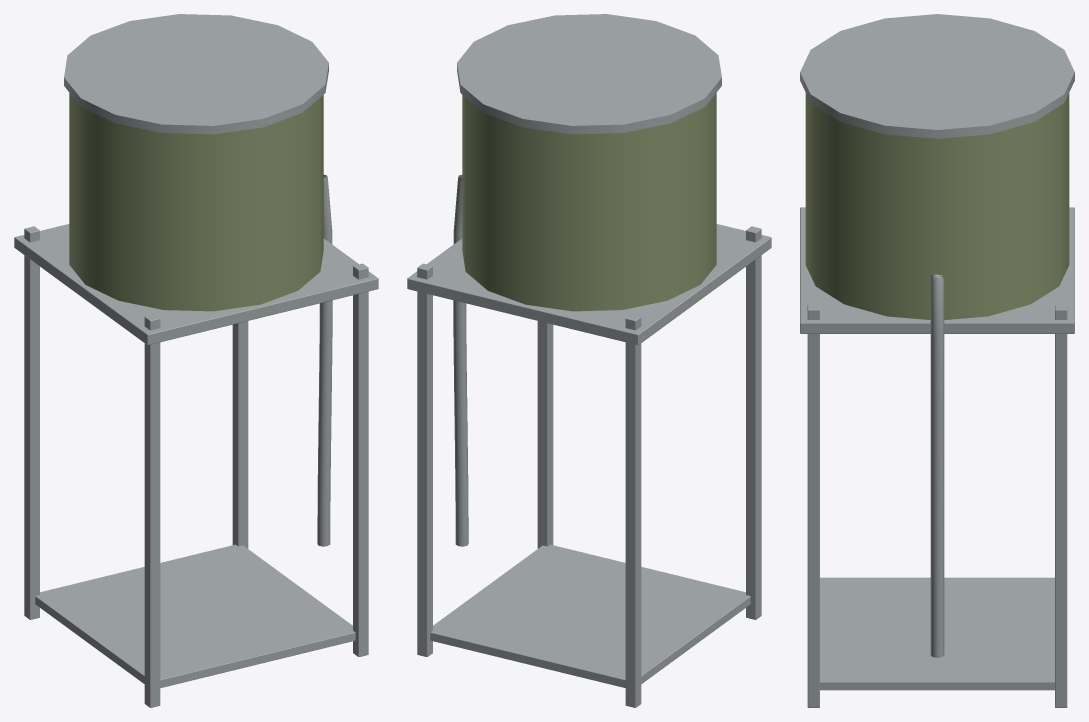
File: water-collection-and-purification-elevated-water-tank-411998ec__20180.glb
3 renders of one model, left to right at view 1: azimuth 30°, elevation 25°; view 2: azimuth 150°, elevation 25°; view 3: azimuth 270°, elevation 25°, orthographic. The views are drawn at different scales.
Visible parts, largest first — view 1: elevated-water-tank; view 2: elevated-water-tank; view 3: elevated-water-tank.
Part boxes in pixels (x1=…): elevated-water-tank: x1=14, y1=14, x2=378, y2=707; elevated-water-tank: x1=407, y1=14, x2=771, y2=707; elevated-water-tank: x1=800, y1=14, x2=1074, y2=707.
Bounding box in the file's own units: 1.09 × 2.34 × 1.
